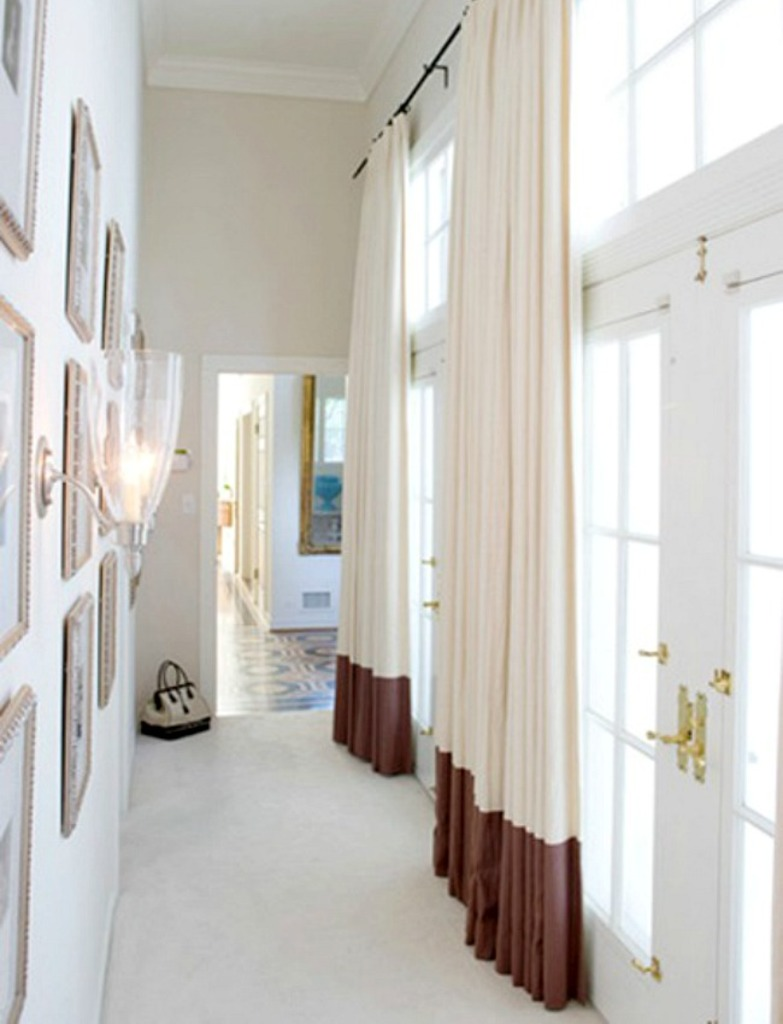door: (589, 334, 669, 1008), (725, 294, 783, 1024)
handle: (642, 710, 688, 747), (638, 640, 670, 670), (694, 735, 709, 782)
